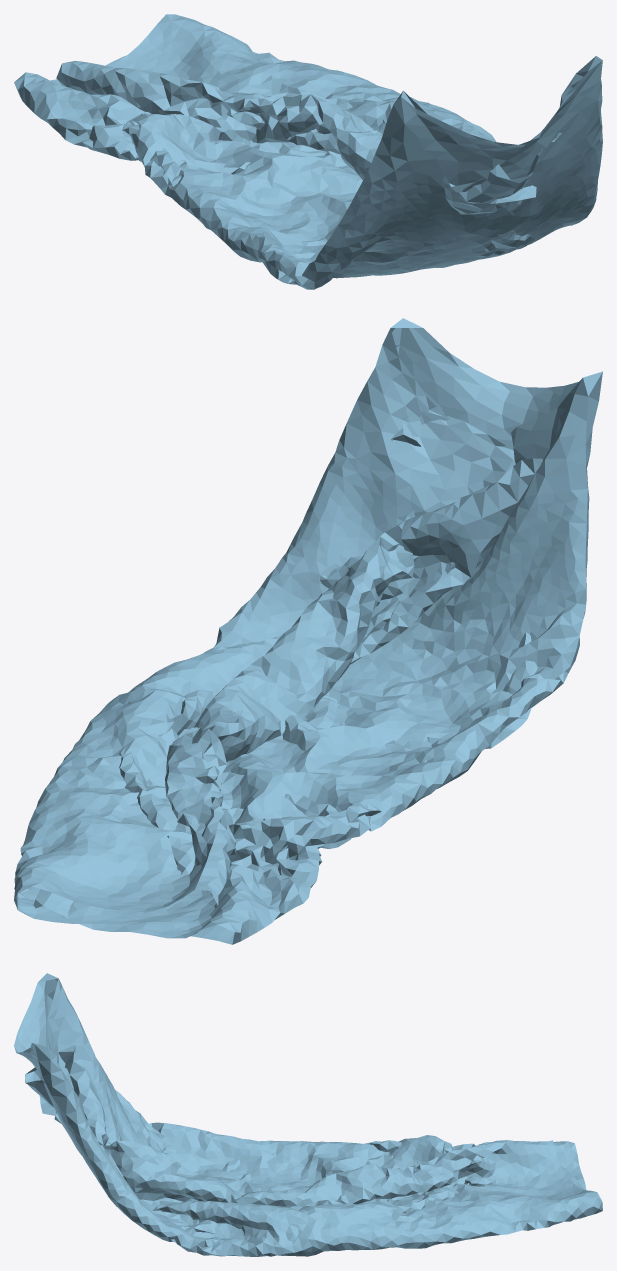
File: frame_04.glb
3 renders of one model, top to bottom at view 1: azimuth 30°, elevation 25°; view 2: azimuth 150°, elevation 25°; view 3: azimuth 270°, elevation 25°, orthographic. The views are drawn at different scales.
Parts seen in each view (by area): view 1: frame_04.obj; view 2: frame_04.obj; view 3: frame_04.obj.
Part boxes in pixels (<box>): frame_04.obj: <box>14,14,602,289</box>; frame_04.obj: <box>14,318,602,944</box>; frame_04.obj: <box>14,973,602,1256</box>.
Size of the model in its own units: 0.7957 by 0.6532 by 1.8.
